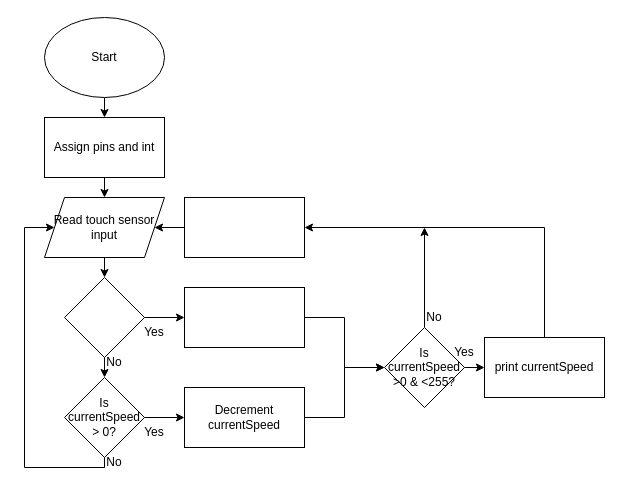
The diagram is 622 pixels wide and 495 high, and some of its shapes have lost their labels. The shapes that lost their labels are listed below. From the top down, each one's centre as x and y in pixels, then its label:
At point 244,227: "delay 10 ms".
At point 104,317: "Is touch sensor HIGH & currentSpeed <255?".
At point 244,317: "Increment currentSpeed".
